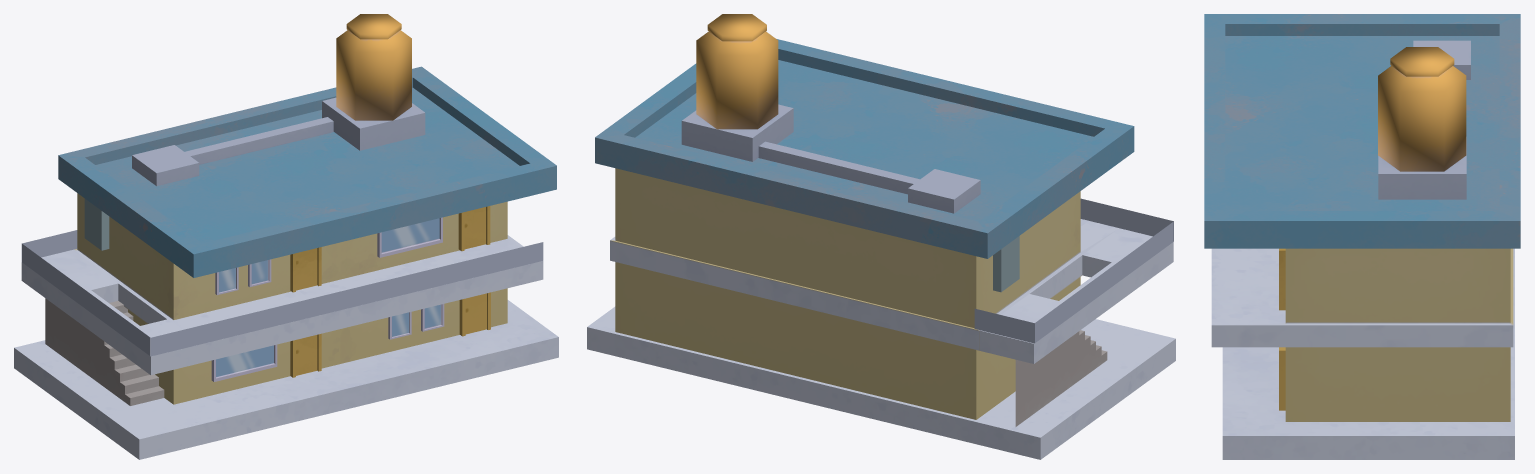
The model's file is BLD_Kost.fbx.
3 views of the same model, side by side, from view 1: azimuth 30°, elevation 25°; view 2: azimuth 150°, elevation 25°; view 3: azimuth 270°, elevation 25° (orthographic). The views are drawn at different scales.
Parts seen in each view (by area): view 1: Cube.001; view 2: Cube.001; view 3: Cube.001.
Boxes of the visible parts, x1=… form: Cube.001: x1=14, y1=14, x2=558, y2=459; Cube.001: x1=587, y1=14, x2=1175, y2=459; Cube.001: x1=1204, y1=14, x2=1520, y2=459.
Bounding box in the file's own units: 1281 × 861 × 716.
1 material, 1 textured.
